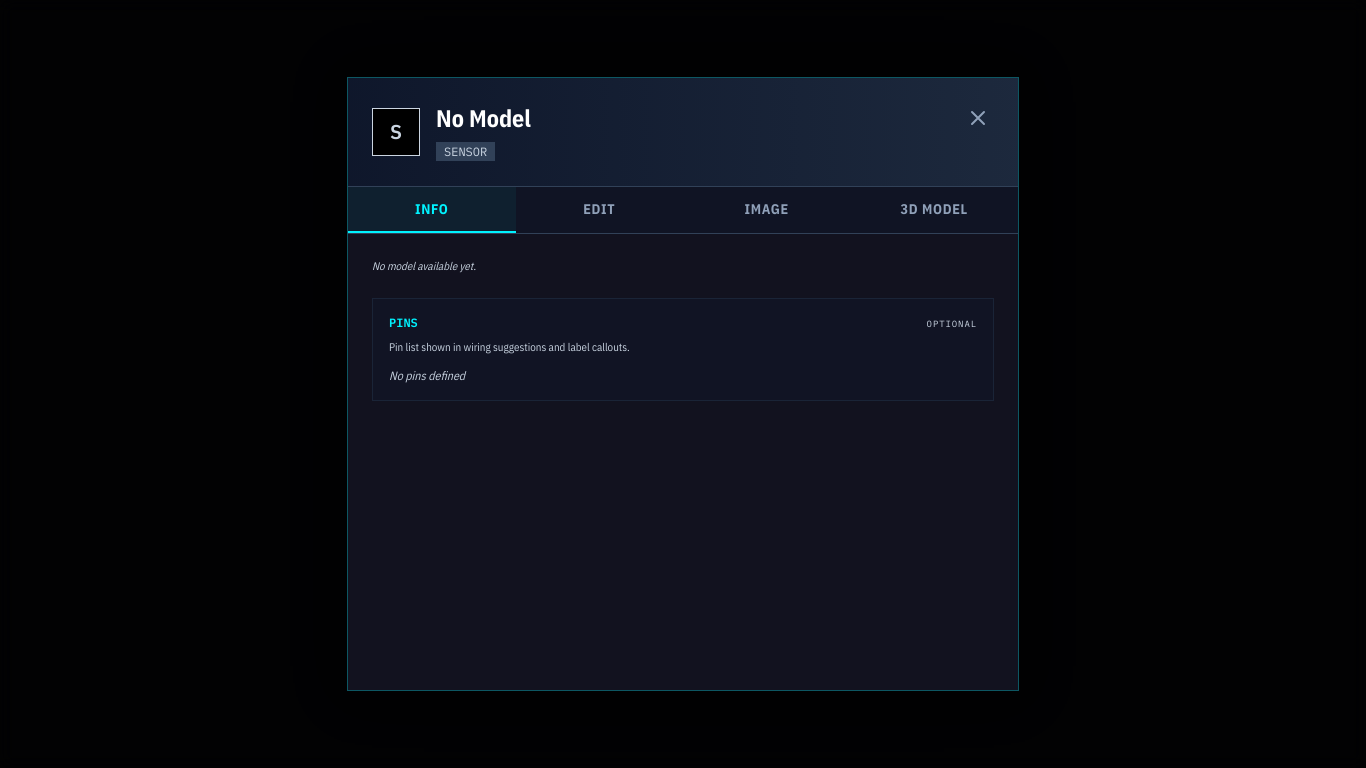
ComponentEditorModal › shows a 3D empty state when no model is available
Click the button "3D MODEL": [934, 210] box [850, 187, 1018, 233]
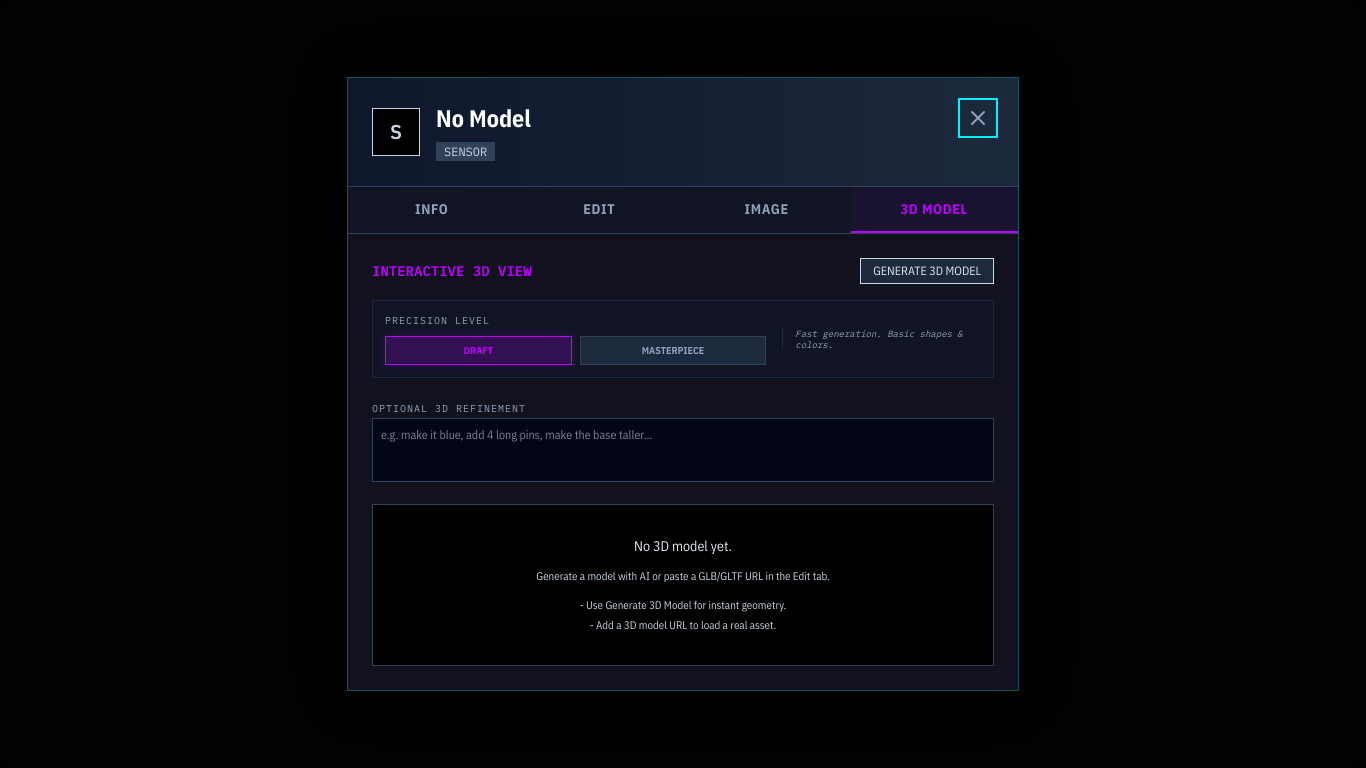
Check: the text "No 3D model yet." is shown, box [634, 536, 732, 556]
